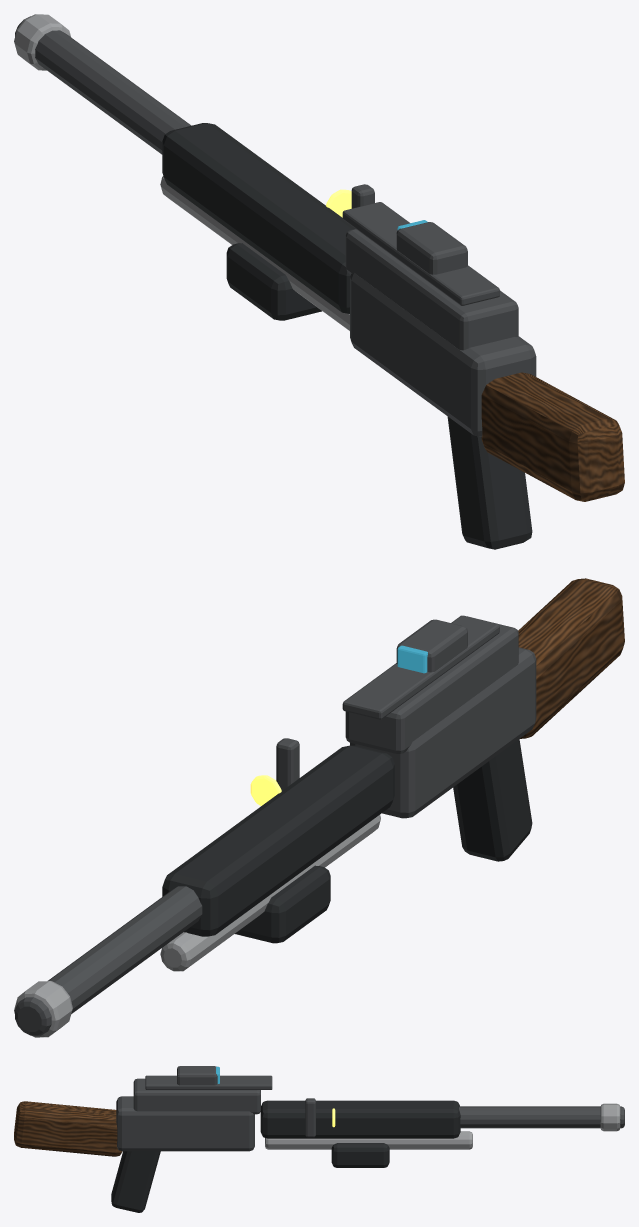
Rendered from wpn_shotgun.glb.
The picture shows the model from 3 angles, top to bottom: view 1: azimuth 30°, elevation 25°; view 2: azimuth 150°, elevation 25°; view 3: azimuth 270°, elevation 25°; orthographic projection. The views are drawn at different scales.
Parts seen in each view (by area): view 1: Handguard.005, Stock.005, Receiver.002, Upper.002, PistolGrip.005, Barrel.006, TopRail.005, Pump, Sight.001, MagTube, Muzzle; view 2: Handguard.005, Receiver.002, Stock.005, Barrel.006, Upper.002, PistolGrip.005, TopRail.005, Pump, MagTube, Sight.001, Muzzle, Flashlight.005 (+2 smaller); view 3: Handguard.005, Receiver.002, Stock.005, Barrel.006, Upper.002, PistolGrip.005, MagTube, TopRail.005, Pump, Sight.001, Muzzle, Flashlight.005.
Boxes of the visible parts, left/top/right/bottom form: Handguard.005: left=162, top=123, right=355, bottom=313; Stock.005: left=481, top=372, right=624, bottom=501; Receiver.002: left=350, top=273, right=536, bottom=436; Upper.002: left=345, top=229, right=518, bottom=350; PistolGrip.005: left=447, top=416, right=532, bottom=549; Barrel.006: left=15, top=16, right=190, bottom=154; TopRail.005: left=342, top=202, right=499, bottom=305; Pump: left=226, top=243, right=321, bottom=320; Sight.001: left=396, top=222, right=467, bottom=274; MagTube: left=160, top=176, right=349, bottom=330; Muzzle: left=14, top=14, right=70, bottom=70; Handguard.005: left=162, top=745, right=394, bottom=936; Receiver.002: left=350, top=647, right=536, bottom=818; Stock.005: left=518, top=578, right=624, bottom=738; Barrel.006: left=15, top=886, right=202, bottom=1035; Upper.002: left=345, top=616, right=518, bottom=753; PistolGrip.005: left=453, top=739, right=532, bottom=861; TopRail.005: left=342, top=615, right=499, bottom=719; Pump: left=235, top=865, right=330, bottom=943; MagTube: left=160, top=815, right=380, bottom=971; Sight.001: left=396, top=619, right=467, bottom=672; Muzzle: left=14, top=981, right=72, bottom=1037; Flashlight.005: left=276, top=738, right=299, bottom=790; Handguard.005: left=260, top=1100, right=460, bottom=1138; Receiver.002: left=116, top=1096, right=254, bottom=1151; Stock.005: left=14, top=1101, right=122, bottom=1156; Barrel.006: left=459, top=1106, right=624, bottom=1128; Upper.002: left=133, top=1078, right=260, bottom=1114; PistolGrip.005: left=111, top=1151, right=160, bottom=1212; MagTube: left=265, top=1131, right=472, bottom=1149; TopRail.005: left=145, top=1075, right=272, bottom=1089; Pump: left=331, top=1143, right=389, bottom=1167; Sight.001: left=177, top=1066, right=217, bottom=1085; Muzzle: left=600, top=1103, right=620, bottom=1131; Flashlight.005: left=305, top=1098, right=315, bottom=1137.
Size of the model in its own units: 0.0902 by 0.2658 by 1.06.
Materials: 6 (1 with a texture image).
